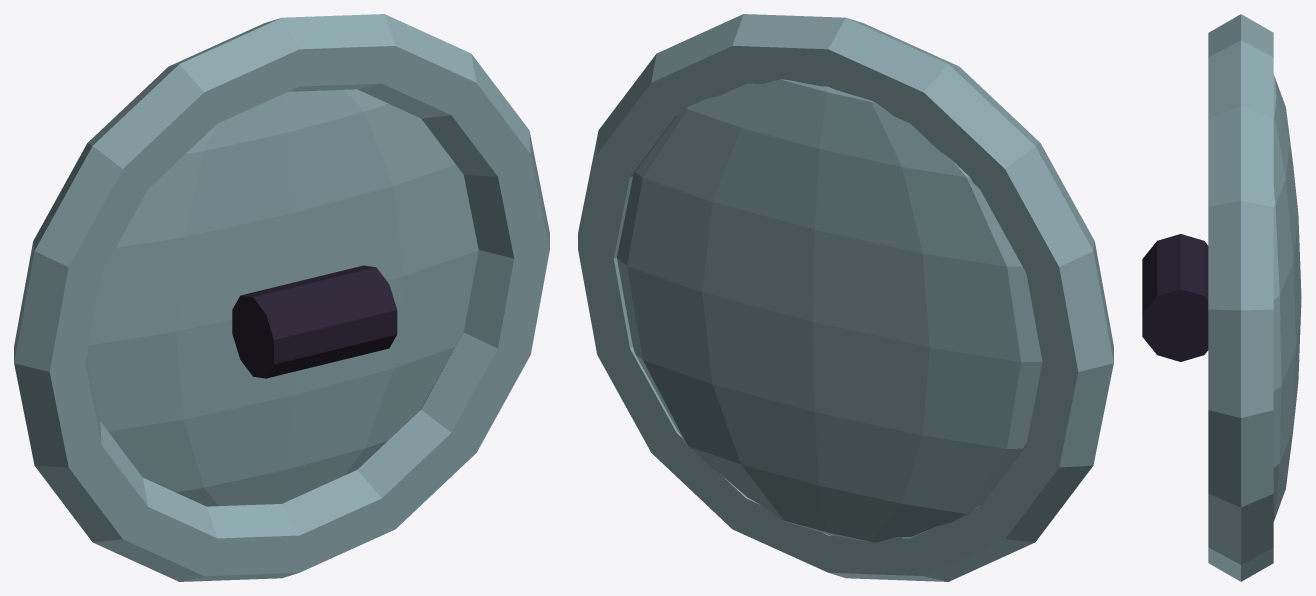
File: shield.glb
3 views of the same model, side by side, from view 1: azimuth 30°, elevation 25°; view 2: azimuth 150°, elevation 25°; view 3: azimuth 270°, elevation 25° (orthographic). The views are drawn at different scales.
Visible parts, largest first — view 1: Rim.001, Lid, Handle; view 2: Lid, Rim.001; view 3: Rim.001, Lid, Handle.
Part boxes in pixels (x1,y1,x2,y2): Rim.001: (14, 14, 549, 581); Lid: (87, 89, 478, 506); Handle: (232, 265, 397, 378); Lid: (617, 79, 1042, 542); Rim.001: (578, 14, 1113, 581); Rim.001: (1208, 14, 1273, 581); Lid: (1273, 74, 1301, 521); Handle: (1142, 234, 1208, 361).
Bounding box in the file's own units: 1.13 × 1.13 × 0.3161.
